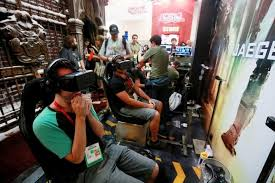oculus: (53, 68, 95, 94), (115, 59, 137, 72)
